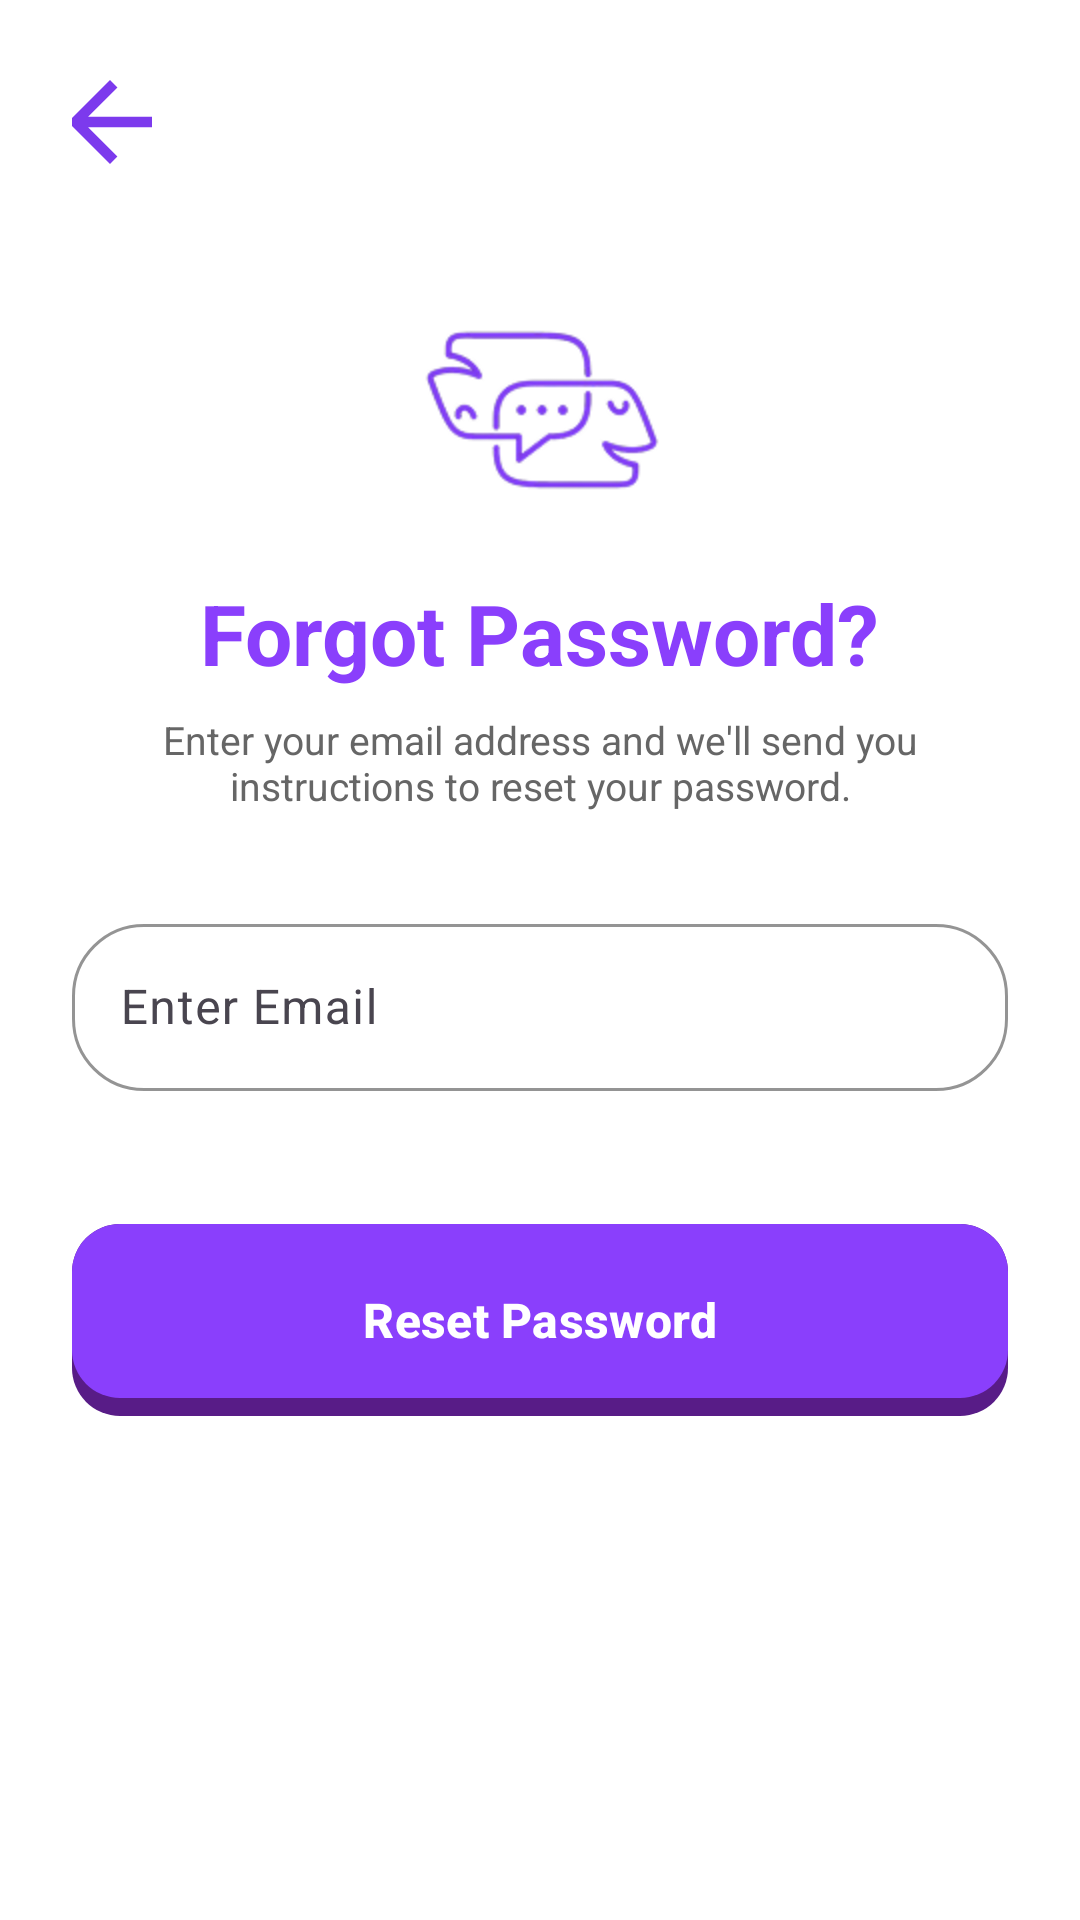

Icons on this 1080px×1920px Android screen, each with the point to tap as (x,y):
Back: (112,122)
